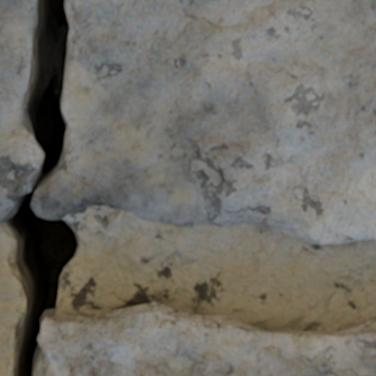brick: (36, 303, 375, 375)
broken_brick: (35, 0, 375, 245), (0, 0, 42, 224)
crack: (2, 0, 83, 375)
